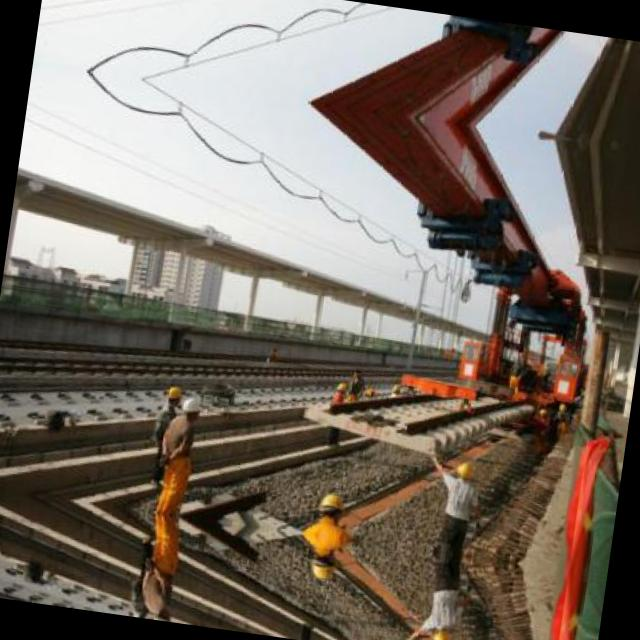helmet: (305, 549, 338, 582), (314, 488, 346, 520), (180, 393, 202, 423), (452, 460, 474, 485), (162, 383, 183, 408), (429, 621, 451, 640), (153, 606, 174, 620), (334, 378, 351, 394)
